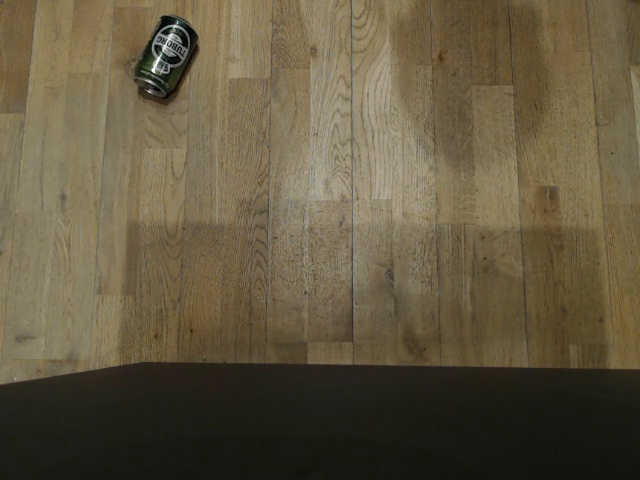beer: (131, 12, 200, 103)
